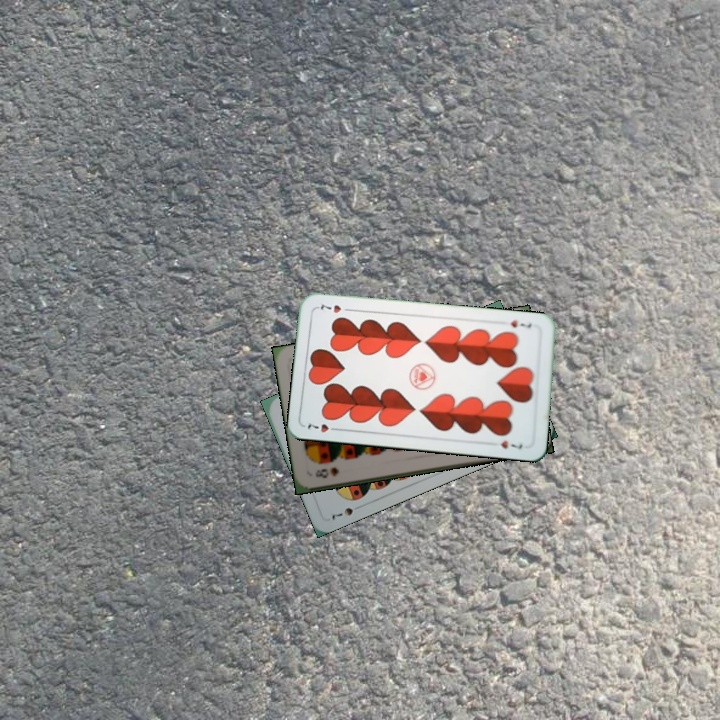H7: (303, 419, 343, 435), (506, 316, 534, 331)
S7: (327, 501, 365, 523)
S8: (311, 463, 341, 480)
